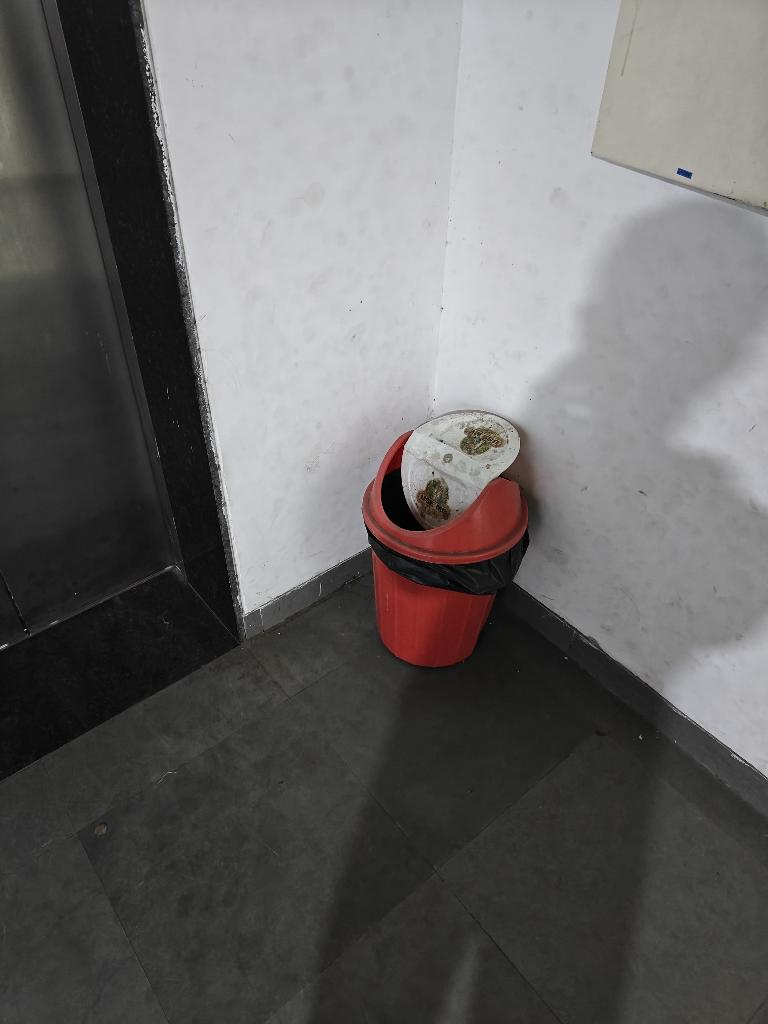dustbin: (324, 379, 558, 699)
